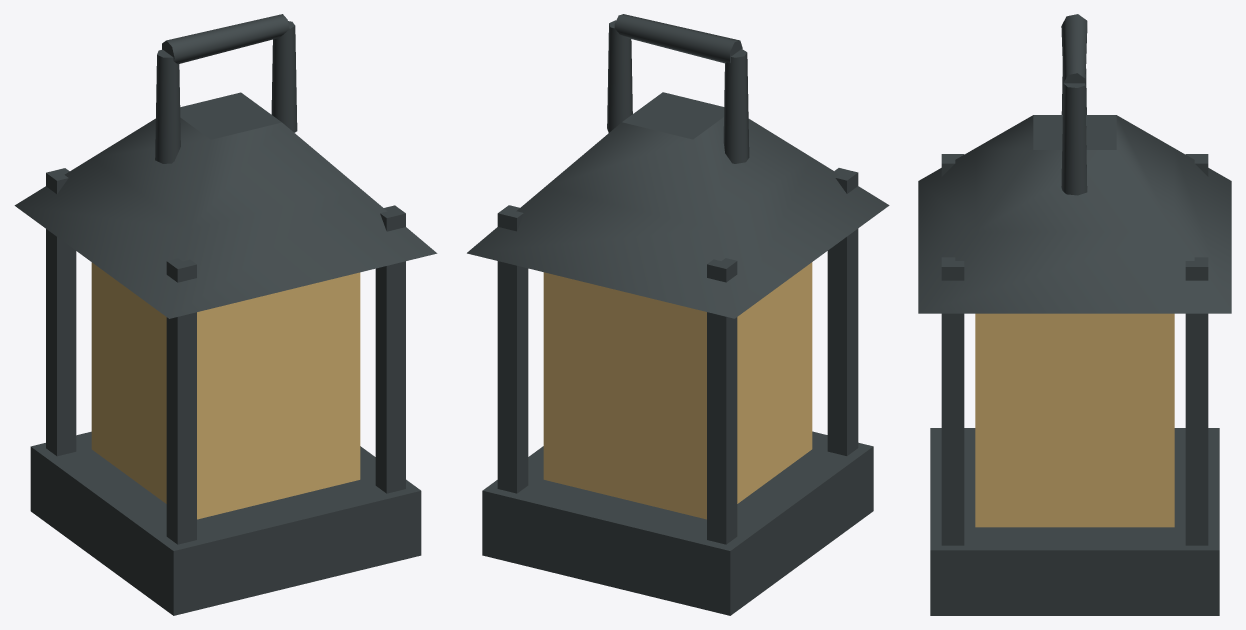
The model's file is Decor_Lantern.glb.
3 views of the same model, side by side, from view 1: azimuth 30°, elevation 25°; view 2: azimuth 150°, elevation 25°; view 3: azimuth 270°, elevation 25° (orthographic).
Parts seen in each view (by area): view 1: _MeshInstance3D_4354, _MeshInstance3D_4349, _MeshInstance3D_4348, _MeshInstance3D_4351, _MeshInstance3D_4353, _MeshInstance3D_4350, _MeshInstance3D_4357, _MeshInstance3D_4355, _MeshInstance3D_4356; view 2: _MeshInstance3D_4354, _MeshInstance3D_4349, _MeshInstance3D_4348, _MeshInstance3D_4352, _MeshInstance3D_4350, _MeshInstance3D_4351, _MeshInstance3D_4357, _MeshInstance3D_4355, _MeshInstance3D_4356; view 3: _MeshInstance3D_4354, _MeshInstance3D_4349, _MeshInstance3D_4348, _MeshInstance3D_4352, _MeshInstance3D_4353, _MeshInstance3D_4356, _MeshInstance3D_4357.
Boxes of the visible parts, x1,y1,x2,y2 form: _MeshInstance3D_4354: [14, 92, 437, 318]; _MeshInstance3D_4349: [91, 262, 360, 519]; _MeshInstance3D_4348: [30, 431, 421, 615]; _MeshInstance3D_4351: [166, 258, 196, 544]; _MeshInstance3D_4353: [375, 205, 405, 493]; _MeshInstance3D_4350: [46, 168, 76, 456]; _MeshInstance3D_4357: [162, 14, 289, 64]; _MeshInstance3D_4355: [155, 49, 180, 163]; _MeshInstance3D_4356: [271, 21, 297, 132]; _MeshInstance3D_4354: [467, 92, 889, 318]; _MeshInstance3D_4349: [543, 262, 812, 519]; _MeshInstance3D_4348: [482, 431, 873, 615]; _MeshInstance3D_4352: [497, 205, 528, 493]; _MeshInstance3D_4350: [707, 258, 737, 544]; _MeshInstance3D_4351: [827, 168, 858, 455]; _MeshInstance3D_4357: [614, 14, 742, 63]; _MeshInstance3D_4355: [723, 49, 749, 163]; _MeshInstance3D_4356: [607, 20, 632, 132]; _MeshInstance3D_4354: [918, 115, 1231, 313]; _MeshInstance3D_4349: [975, 313, 1174, 527]; _MeshInstance3D_4348: [930, 428, 1219, 615]; _MeshInstance3D_4352: [1185, 257, 1208, 545]; _MeshInstance3D_4353: [941, 257, 964, 545]; _MeshInstance3D_4356: [1061, 83, 1087, 195]; _MeshInstance3D_4357: [1061, 14, 1087, 84].
Bounding box in the file's own units: 0.3465 × 0.6246 × 0.3465.
